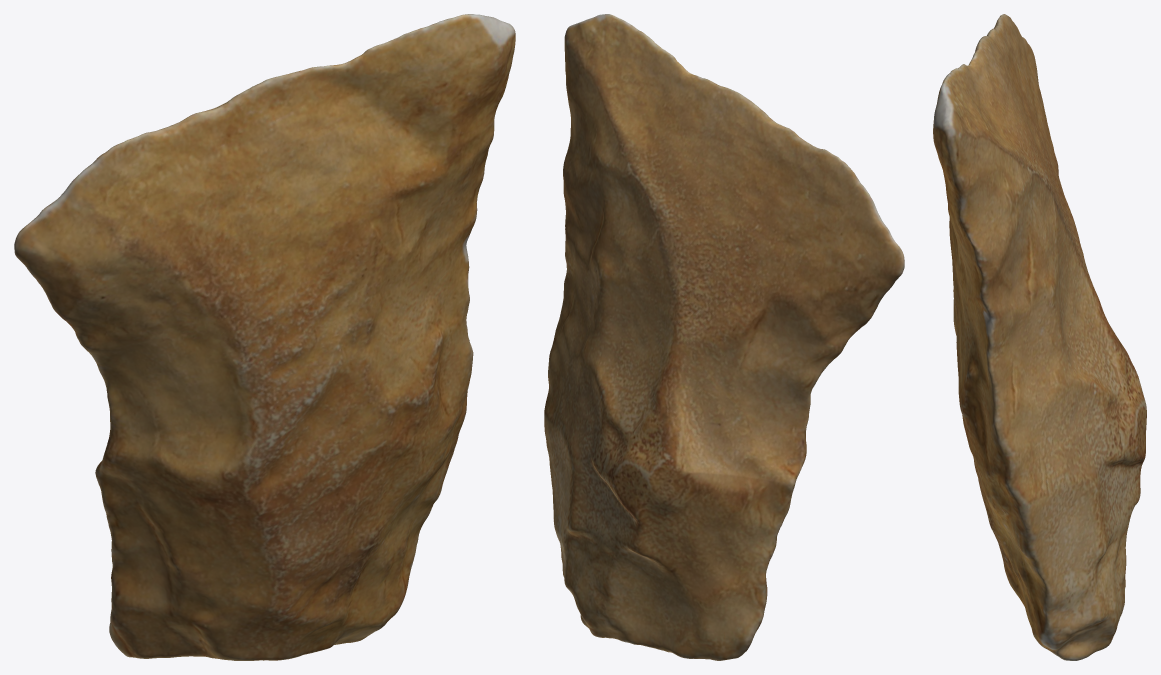
The picture shows the model from 3 angles, left to right: view 1: azimuth 30°, elevation 25°; view 2: azimuth 150°, elevation 25°; view 3: azimuth 270°, elevation 25°; orthographic projection. The views are drawn at different scales.
Visible parts, largest first — view 1: Node; view 2: Node; view 3: Node.
Boxes of the visible parts, x1,y1,x2,y2 form: Node: [14, 14, 515, 660]; Node: [544, 14, 904, 660]; Node: [933, 14, 1146, 660].
Size of the model in its own units: 0.5839 by 0.8192 by 0.2661.
1 material, 1 textured.
